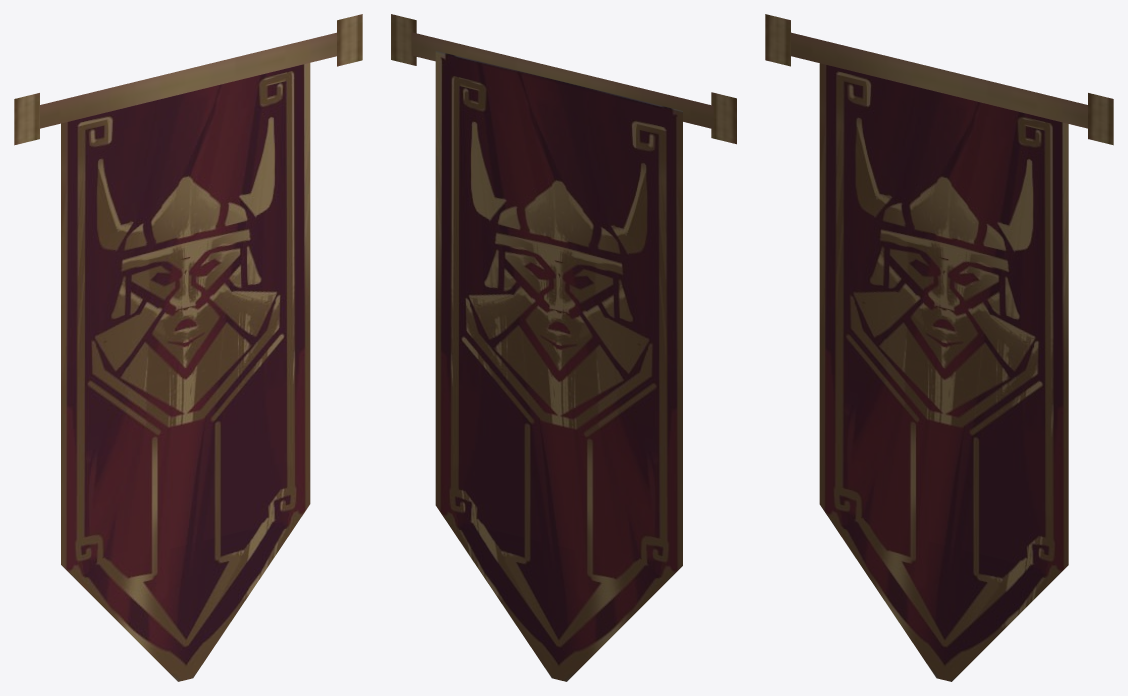
Rendered from Flag_01.glb.
3 views of the same model, side by side, from view 1: azimuth 30°, elevation 25°; view 2: azimuth 150°, elevation 25°; view 3: azimuth 330°, elevation 25° (orthographic).
Visible parts, largest first — view 1: Flag_01; view 2: Flag_01; view 3: Flag_01.
Boxes of the visible parts, bbox=[...] form: Flag_01: bbox=[14, 14, 362, 681]; Flag_01: bbox=[391, 14, 736, 681]; Flag_01: bbox=[765, 14, 1113, 681].
Size of the model in its own units: 7.7 by 13.22 by 0.1432.
1 material, 1 textured.
